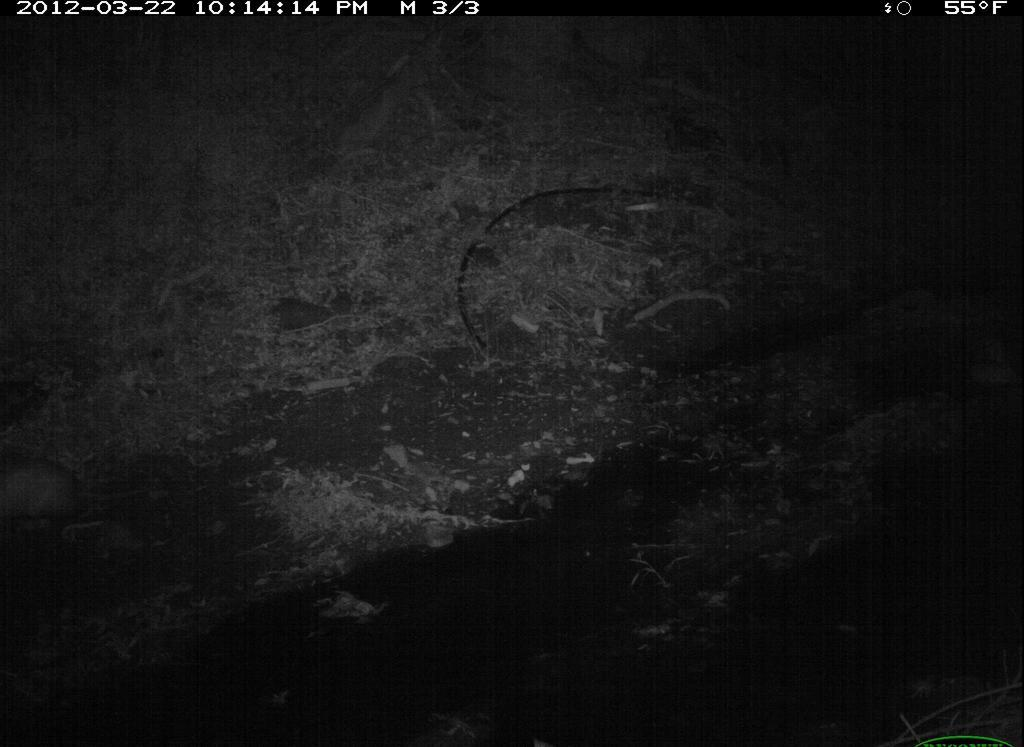opossum: (1, 449, 132, 539)
